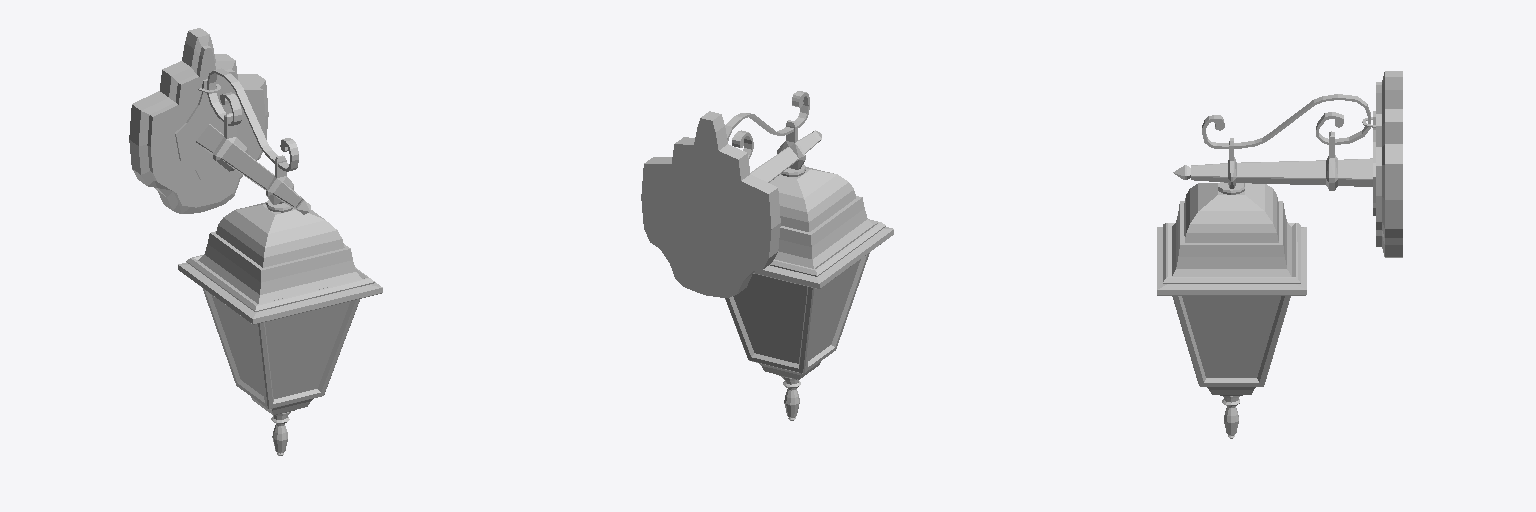
File: lamp.obj
The picture shows the model from 3 angles: view 1: azimuth 30°, elevation 25°; view 2: azimuth 150°, elevation 25°; view 3: azimuth 270°, elevation 25°; orthographic projection.
Visible parts, largest first — view 1: Box02; view 2: Box02; view 3: Box02.
Boxes of the visible parts, x1=… form: Box02: x1=129, y1=28, x2=382, y2=455; Box02: x1=641, y1=91, x2=893, y2=420; Box02: x1=1157, y1=71, x2=1402, y2=438.
Bounding box in the file's own units: 0.172 × 0.4582 × 0.2822.